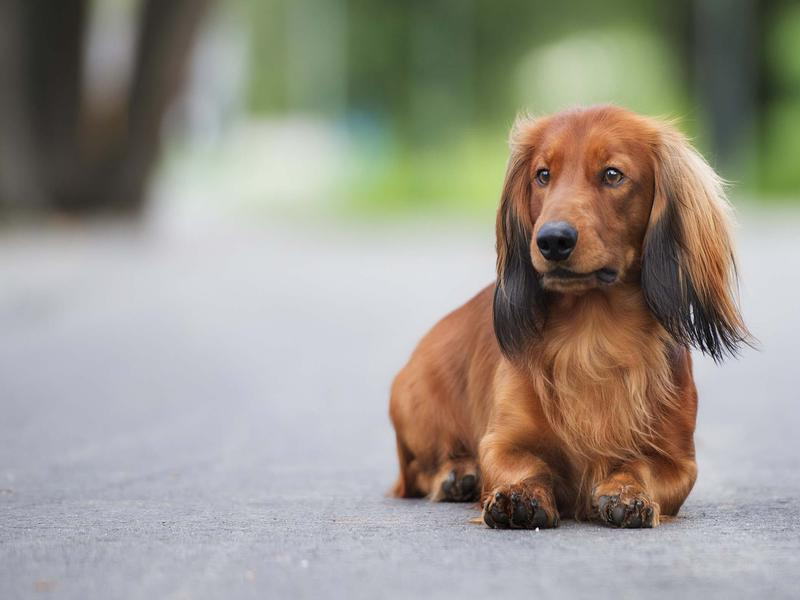dog_down: (386, 102, 763, 535)
